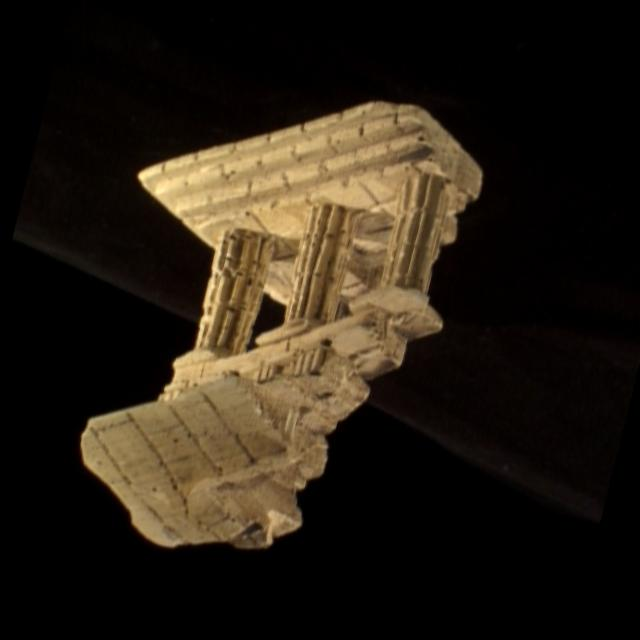Instance-Segmentation: (79, 102, 480, 548)
